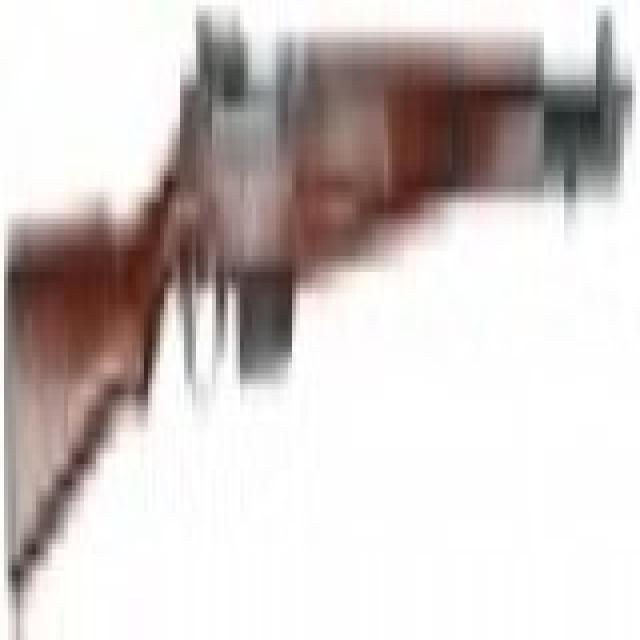Gun: (17, 0, 640, 568)
